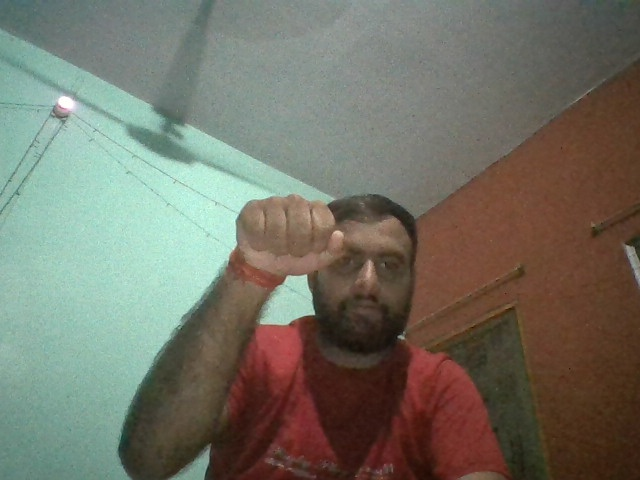yes: (238, 195, 346, 275)
